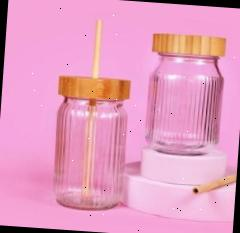glass: (48, 71, 132, 213), (143, 31, 230, 158)
